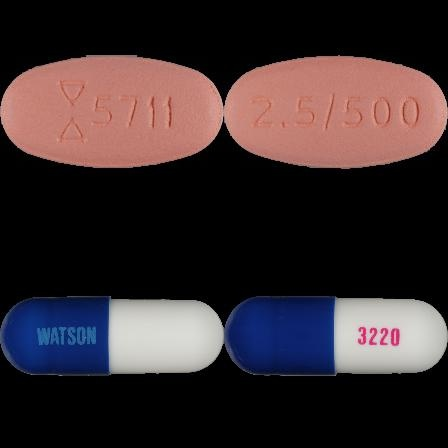54868-5148: (0, 0, 224, 224)
